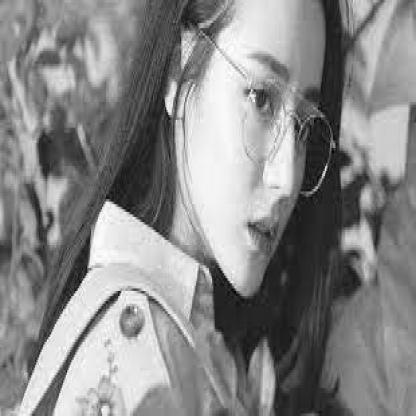glasses: (183, 32, 341, 200)
